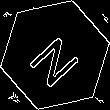N_NE: (24, 23, 86, 87)
